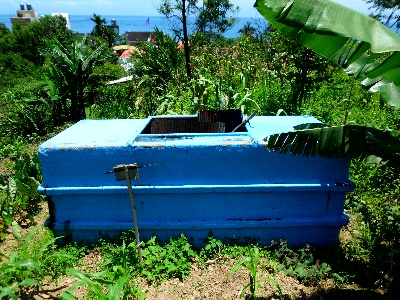box: (35, 116, 351, 251)
